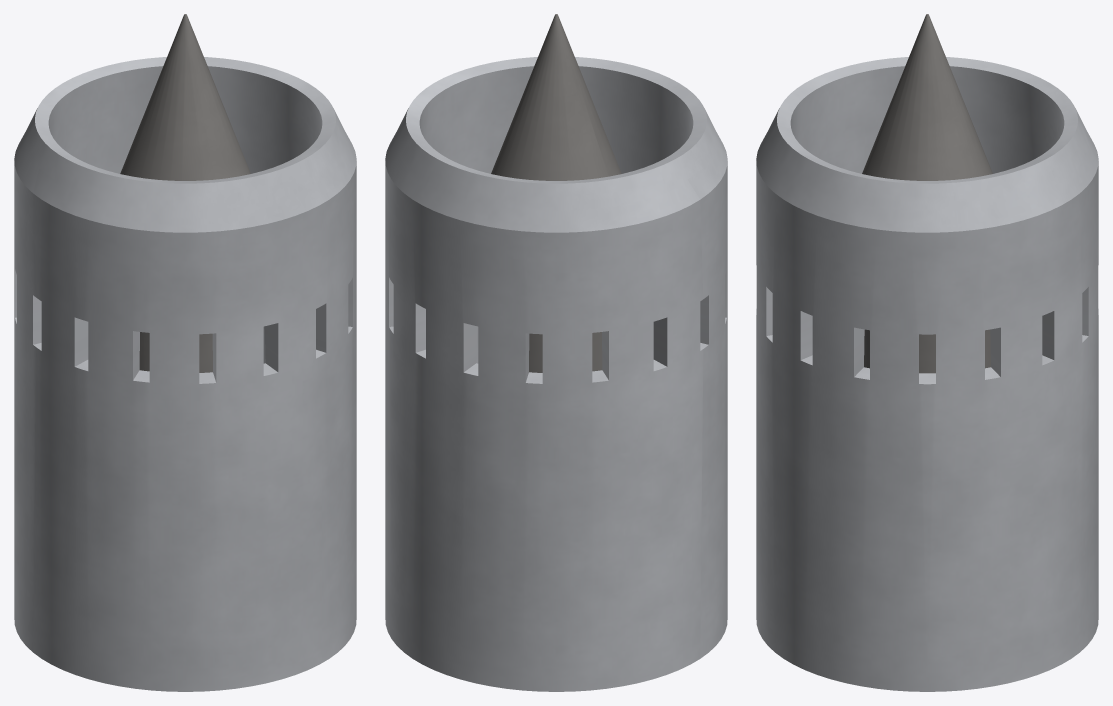
File: jet07_shock_cone_intake_s.glb
3 views of the same model, side by side, from view 1: azimuth 30°, elevation 25°; view 2: azimuth 150°, elevation 25°; view 3: azimuth 270°, elevation 25° (orthographic).
Parts seen in each view (by area): view 1: cowl, spike, centrebody; view 2: cowl, spike, centrebody; view 3: cowl, spike, centrebody.
Part boxes in pixels (x1=…): cowl: x1=14, y1=57, x2=356, y2=691; spike: x1=120, y1=14, x2=250, y2=180; centrebody: x1=139, y1=332, x2=212, y2=372; cowl: x1=385, y1=57, x2=727, y2=691; spike: x1=491, y1=14, x2=621, y2=180; centrebody: x1=529, y1=332, x2=602, y2=372; cowl: x1=756, y1=57, x2=1098, y2=691; spike: x1=862, y1=14, x2=992, y2=180; centrebody: x1=864, y1=329, x2=990, y2=373.
Size of the model in its own units: 1.25 by 2.44 by 1.25.
Materials: 3 (2 with a texture image).
